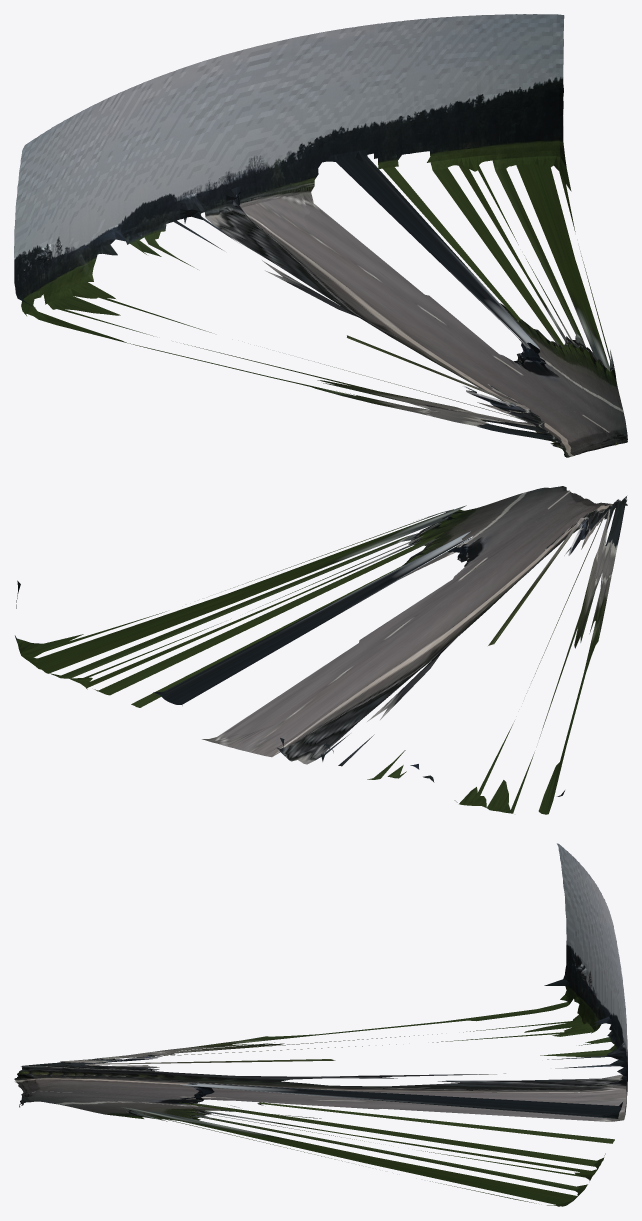
3 renders of one model, top to bottom at view 1: azimuth 30°, elevation 25°; view 2: azimuth 150°, elevation 25°; view 3: azimuth 270°, elevation 25°, orthographic. The views are drawn at different scales.
Visible parts, largest first — view 1: defaultobject; view 2: defaultobject; view 3: defaultobject.
Part boxes in pixels (x1,y1,x2,y2): defaultobject: (14,14,627,457); defaultobject: (15,486,627,814); defaultobject: (14,843,627,1206).
Bounding box in the file's own units: 41.16 × 13.63 × 44.69.
1 material, 1 textured.
